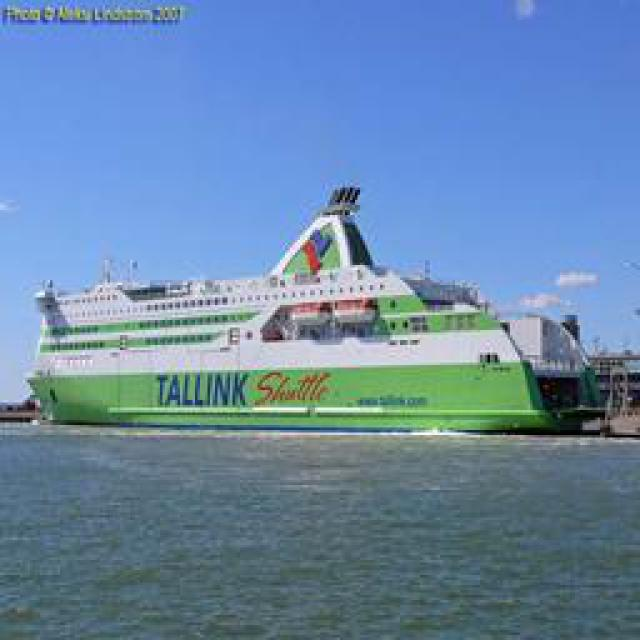Ship: (27, 177, 605, 425)
